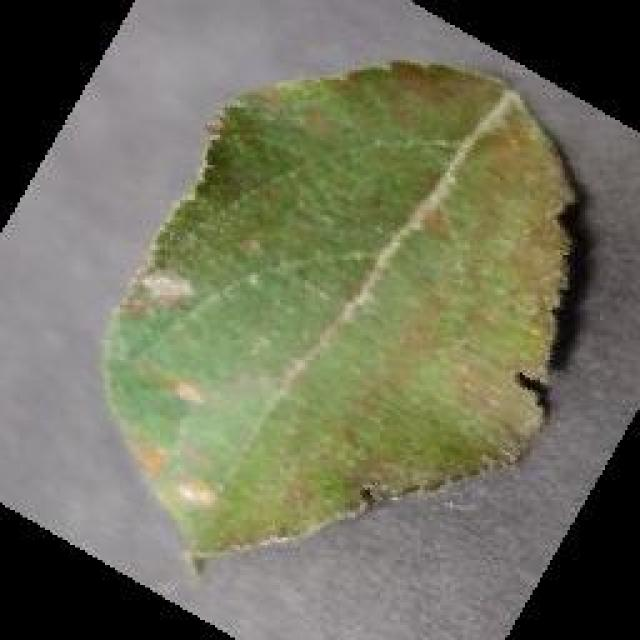apple healthy: (97, 55, 585, 565)
